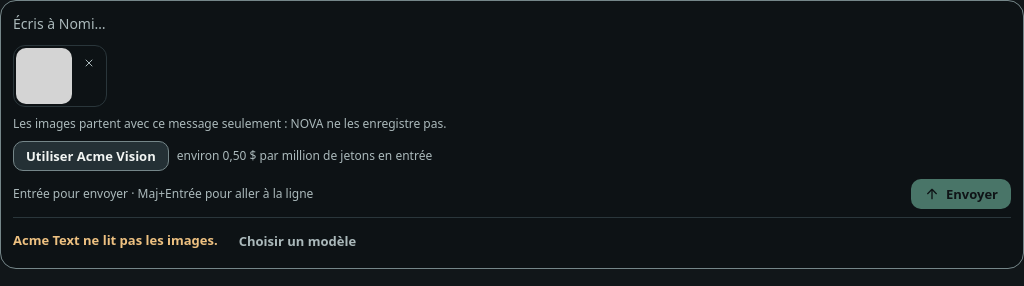
Test case: pasted images › with a text-only model: the send waits, a vision model of the catalog is proposed, one click switches
Check: the text "Acme Text ne lit pas les images." is shown, box [13,231,218,251]
Step 1. Type "Que montre cette capture ?" into the text box named "Message" → [512, 25], box [13,13,1011,37]
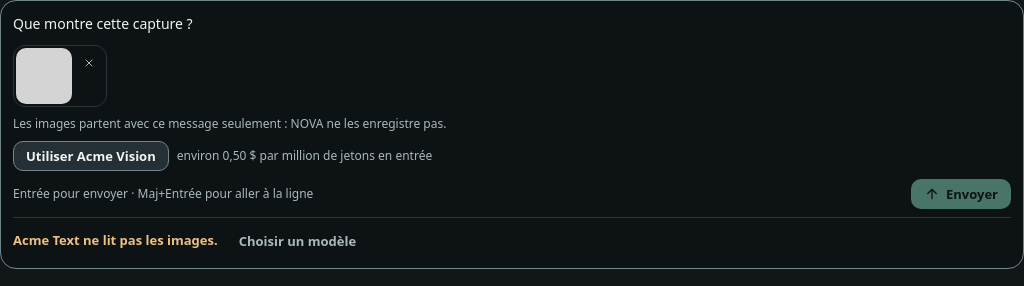
Step 2. Press Enter in the text box named "Message", box [13,13,1011,37]
Step 3. Click the button "Utiliser Acme Vision" → [91, 156], box [13,141,169,171]
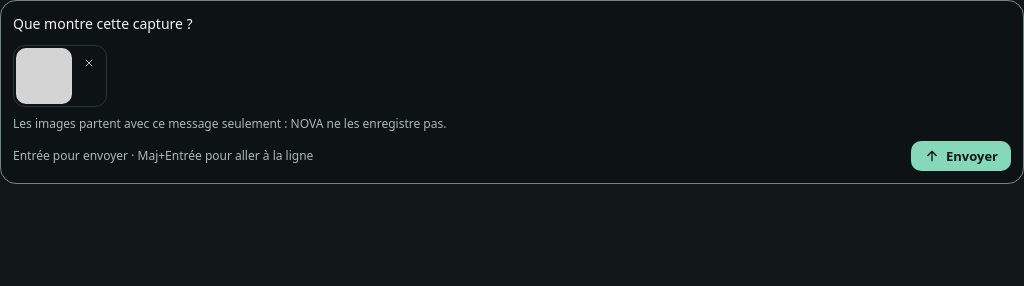
Check: the text "Acme Text ne lit pas les images." is gone
Step 4. Press Enter in the text box named "Message", box [13,13,1011,37]
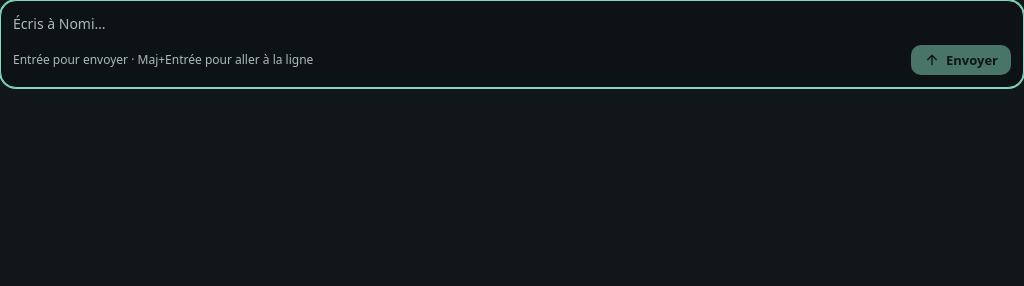
Check: the picture is gone
